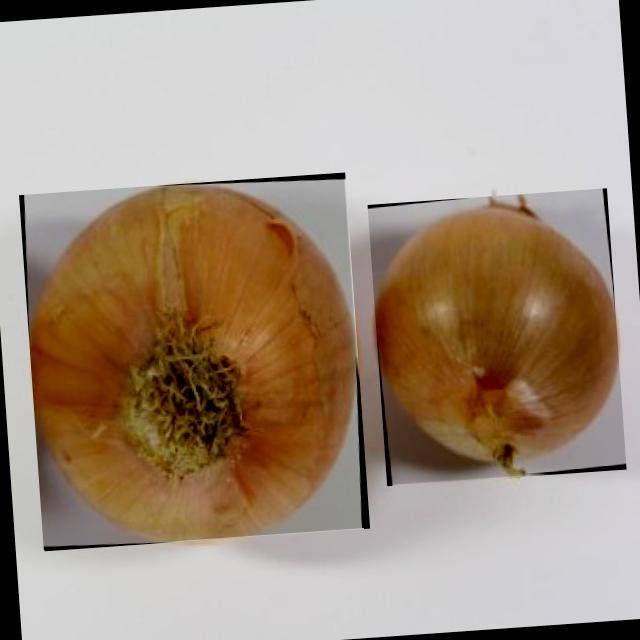sprouting: (32, 183, 357, 541), (374, 196, 618, 475)
